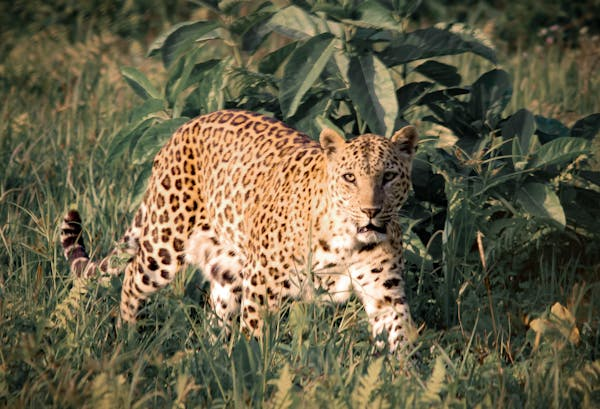Leopard: (59, 109, 426, 358)
